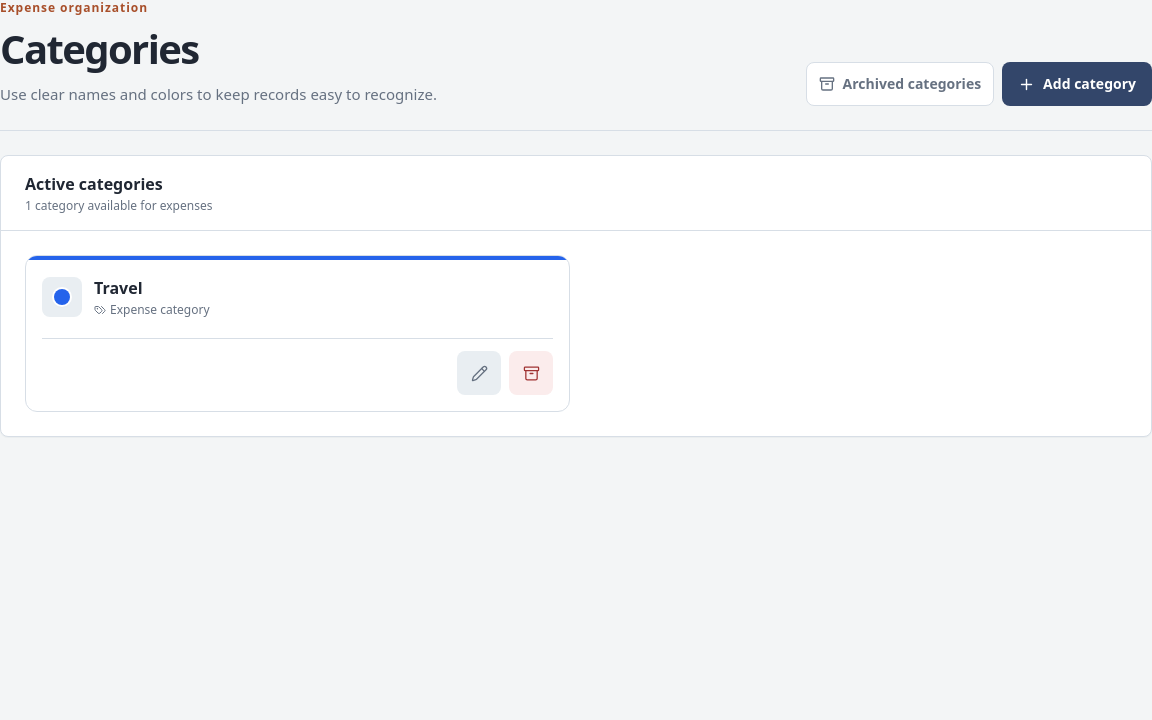
Test case: expense category management › edits a category in place
Click the button named "Edit Travel" at [479, 373], box [457,351,501,395]
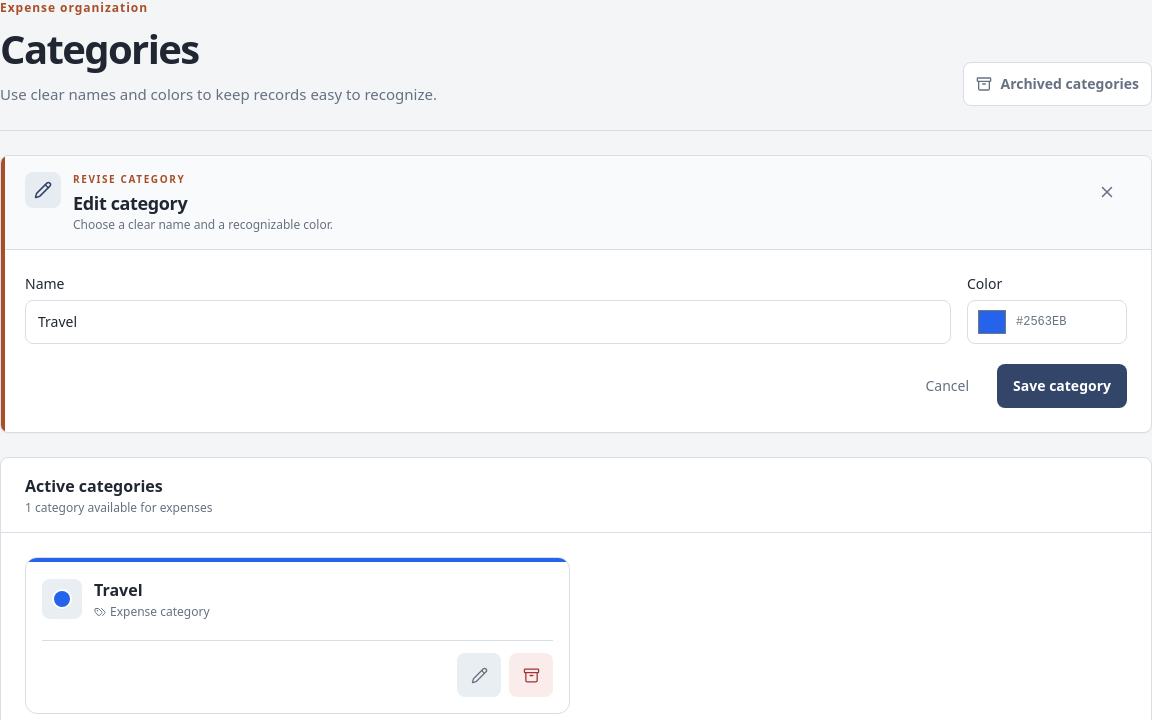
Replace the text in the field labelled "Name" with "Business travel" at [488, 322], box [25,300,951,344]
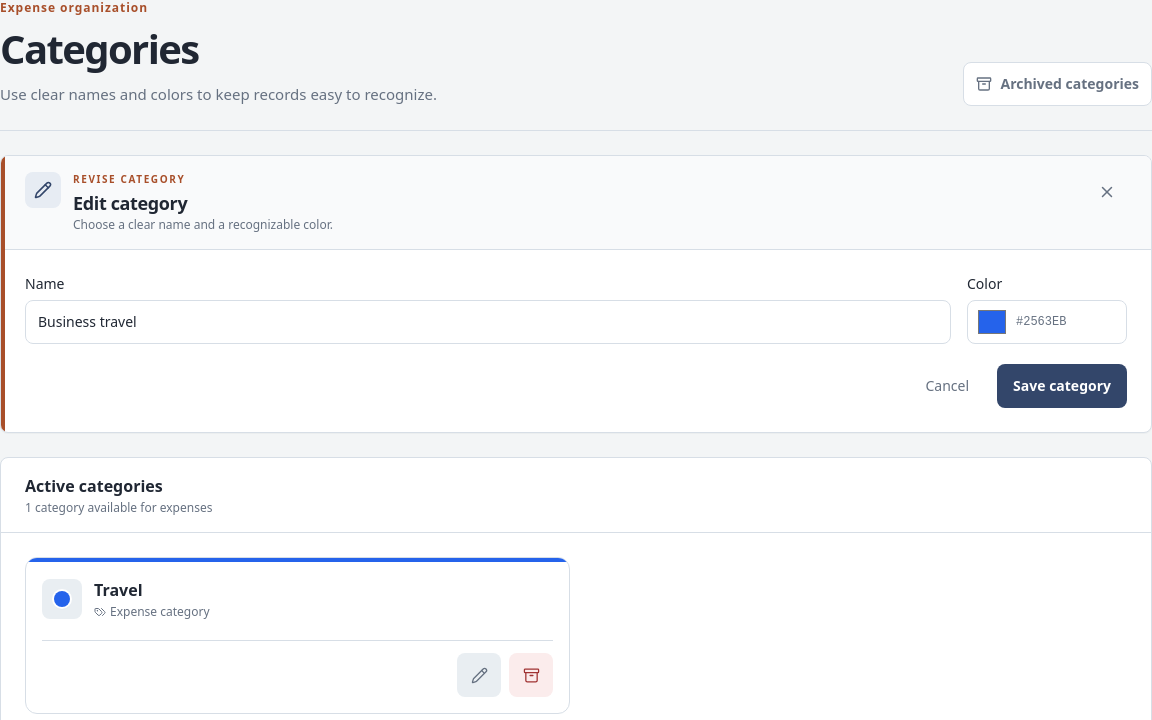
Type "#0f766e" into the colour field labelled "Color #2563eb" at [992, 322], box [976,306,1008,338]
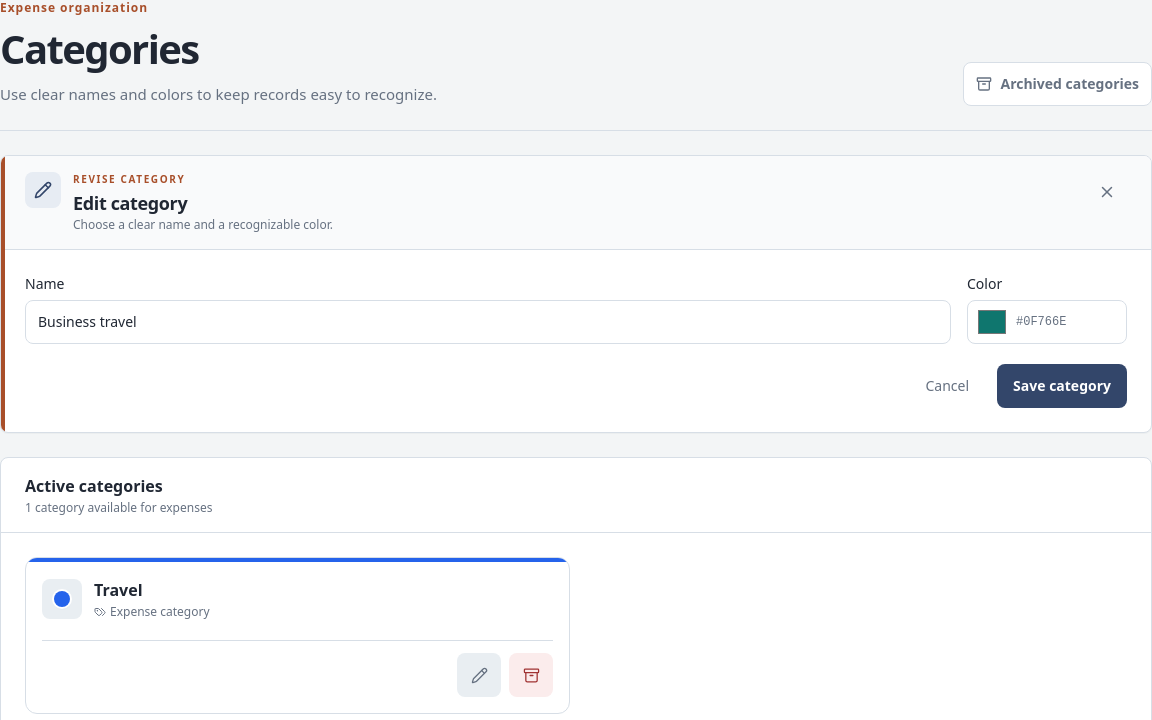
Submit the form named "Category form", box [25,274,1127,408]
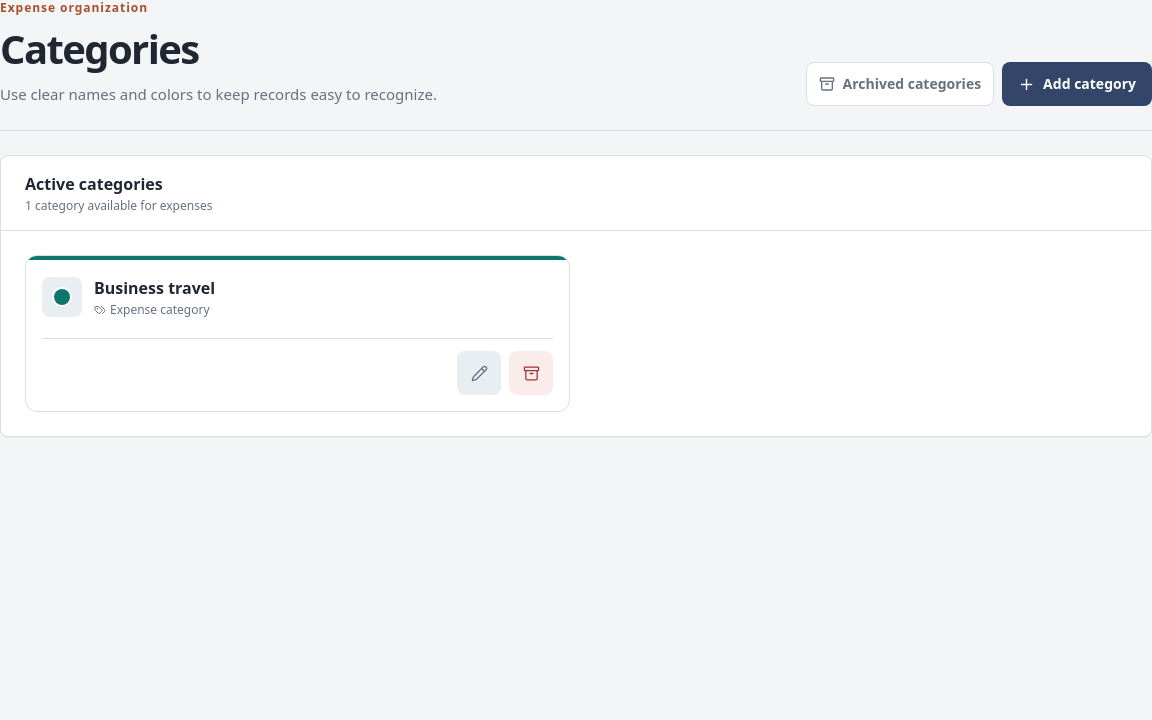
Result: the text "Business travel" is shown at [94,276,215,300]
